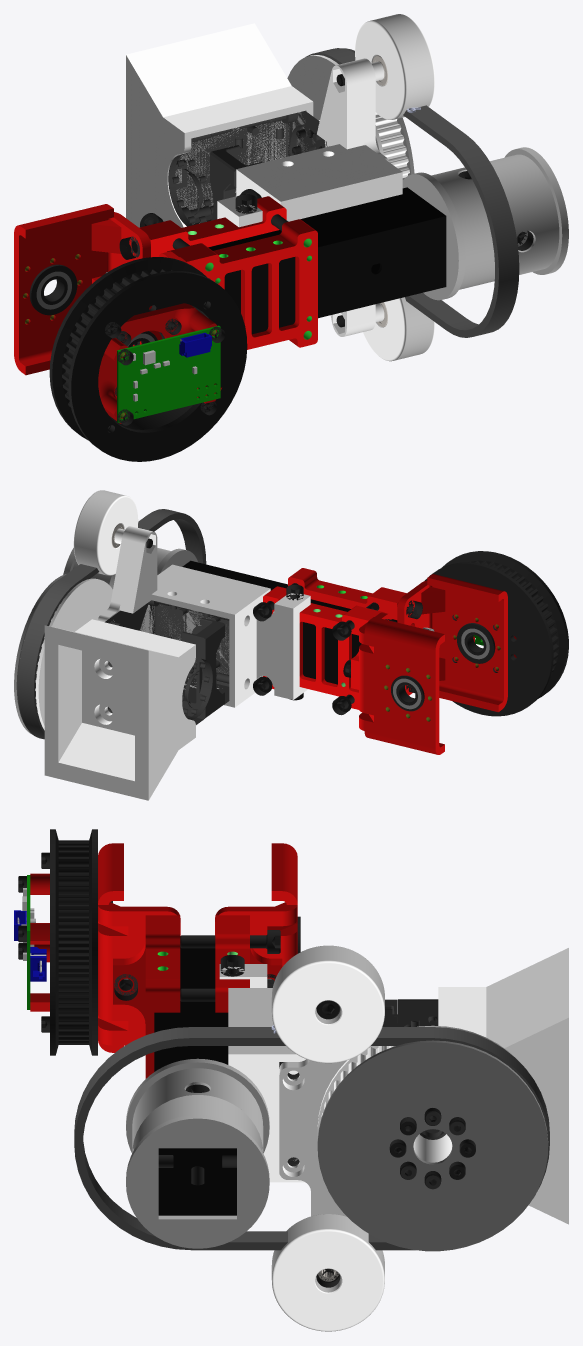
File: female1.dae
3 views of the same model, one above another, from view 1: azimuth 30°, elevation 25°; view 2: azimuth 150°, elevation 25°; view 3: azimuth 270°, elevation 25° (orthographic). The views are drawn at different scales.
Visible parts, largest first — view 1: node57, node56, node49, node47, node60, node43, node61, node69, node51, node58, node59, node48 (+8 smaller); view 2: node57, node60, node47, node45, node48, node43, node61, node71, node65, node67, node64, node56 (+7 smaller); view 3: node63, node57, node58, node61, node67, node66, node56, node48, node45, node65, node60, node59 (+9 smaller).
Boxes of the visible parts, x1,y1,x2,y2 form: node57: (126, 23, 313, 227); node56: (208, 187, 446, 334); node49: (68, 271, 247, 461); node47: (14, 204, 150, 375); node60: (217, 144, 402, 227); node43: (168, 111, 327, 226); node61: (305, 48, 519, 337); node69: (167, 219, 317, 349); node51: (117, 325, 220, 422); node58: (490, 147, 568, 274); node59: (402, 167, 494, 300); node48: (49, 257, 206, 440); node57: (44, 619, 195, 800); node60: (151, 564, 310, 707); node47: (359, 612, 444, 754); node45: (397, 574, 507, 712); node48: (424, 560, 558, 716); node43: (105, 600, 229, 724); node61: (17, 509, 206, 739); node71: (263, 586, 384, 709); node65: (97, 526, 157, 633); node67: (73, 490, 138, 575); node64: (35, 578, 112, 730); node56: (182, 560, 397, 684); node63: (317, 1040, 548, 1251); node57: (438, 948, 568, 1224); node58: (126, 1095, 269, 1248); node61: (74, 1027, 549, 1250); node67: (271, 945, 384, 1063); node66: (271, 1214, 384, 1331); node56: (154, 947, 236, 1215); node48: (58, 829, 97, 1055); node45: (98, 843, 180, 1052); node65: (279, 1059, 346, 1216); node60: (219, 964, 305, 1182); node59: (126, 1058, 269, 1153).
Size of the model in its own units: 0.157 by 0.094 by 0.1275.
